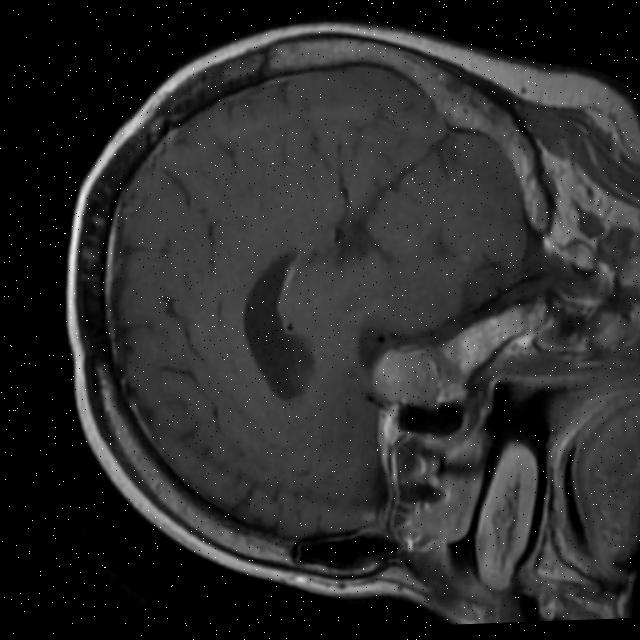Pituitary: (367, 342, 448, 410)
